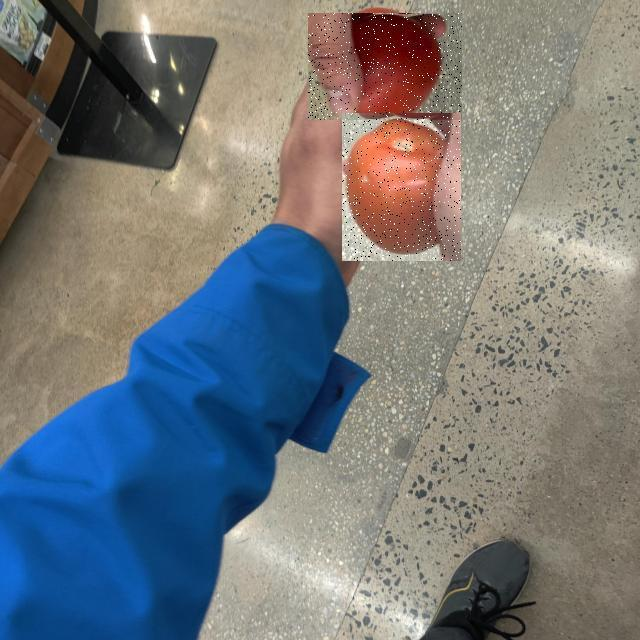Tomatoes: (342, 113, 461, 261), (308, 13, 462, 120)
